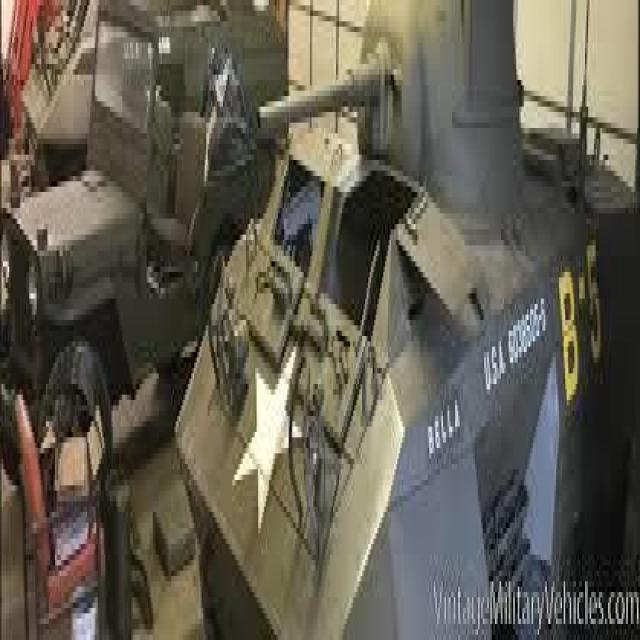Tanks: (167, 13, 574, 611)
